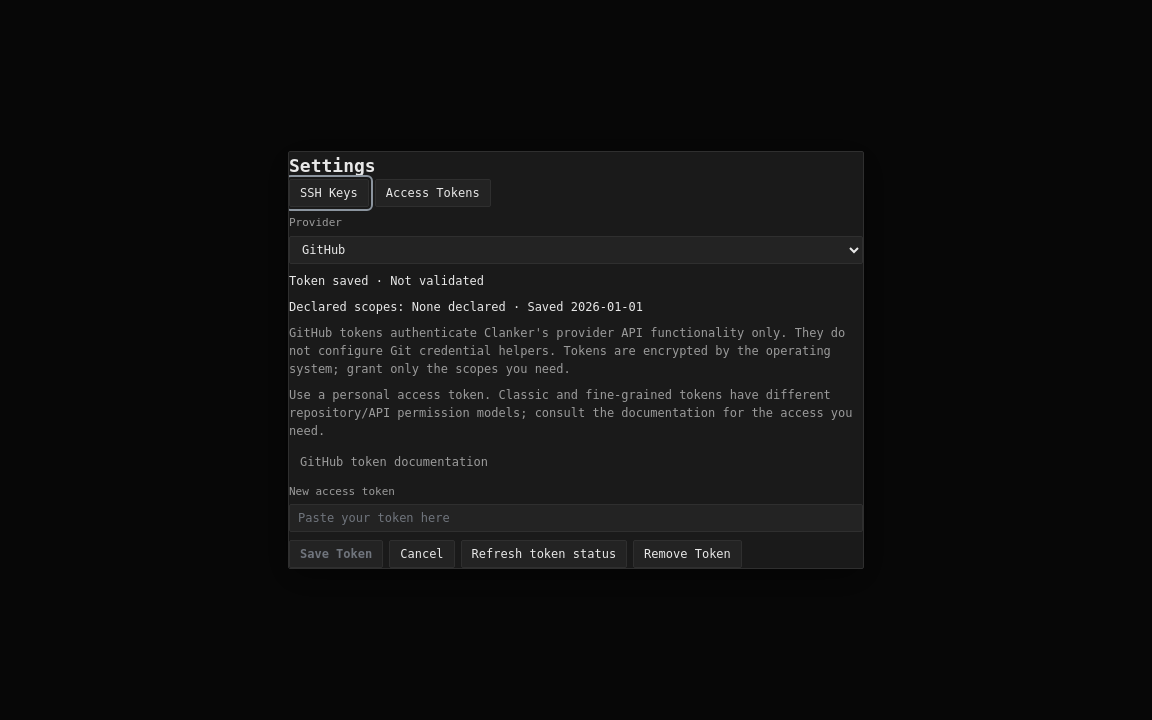
canonical Authentication content › retains failed token input and displays operation failures
This screenshot has width=1152, height=720.
Type "temporary-secret" into the password field labelled "New access token" at (576, 518), box [289,504,863,532]
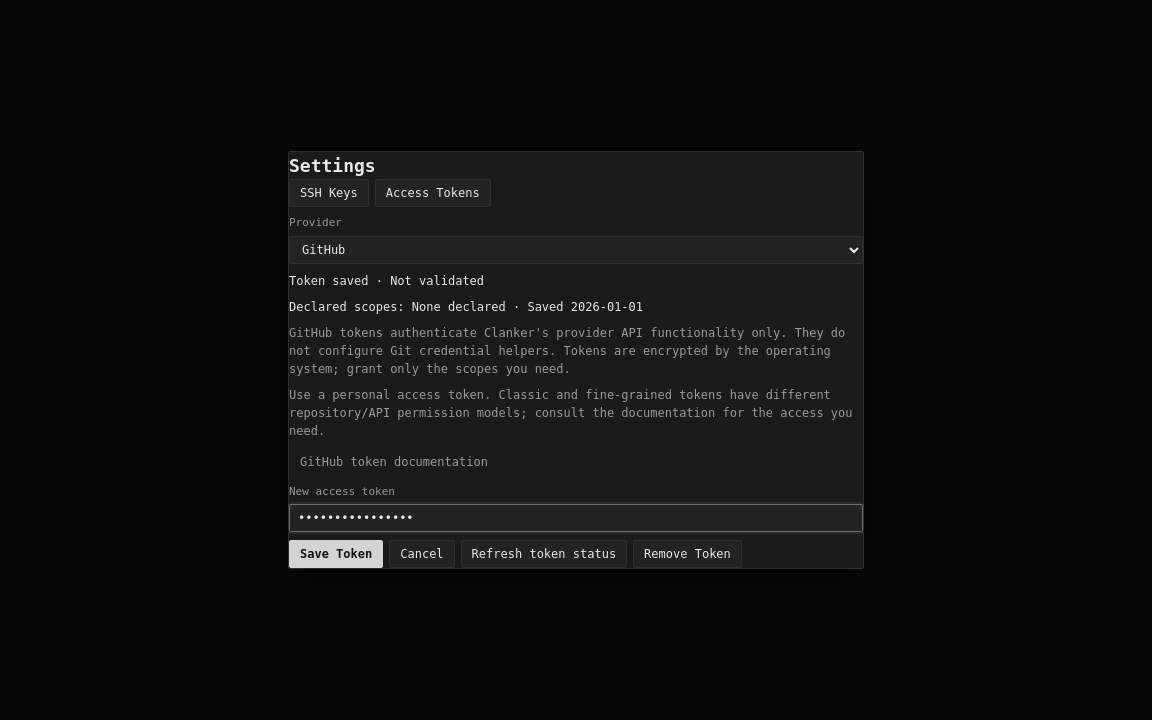
Click the button "Save Token" at (336, 554), box [289,540,383,568]
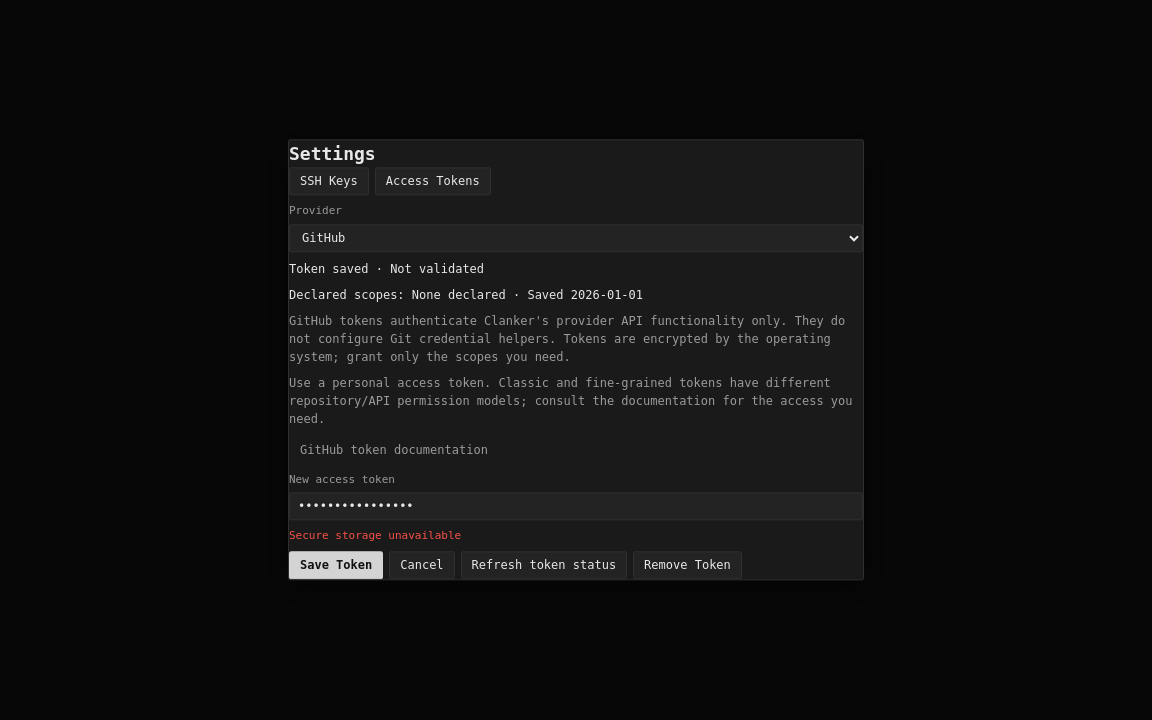
expect the message "Secure storage unavailable" is shown: met, box [289,529,461,542]
Click the button "Cancel" at (422, 566), box [389,552,455,580]
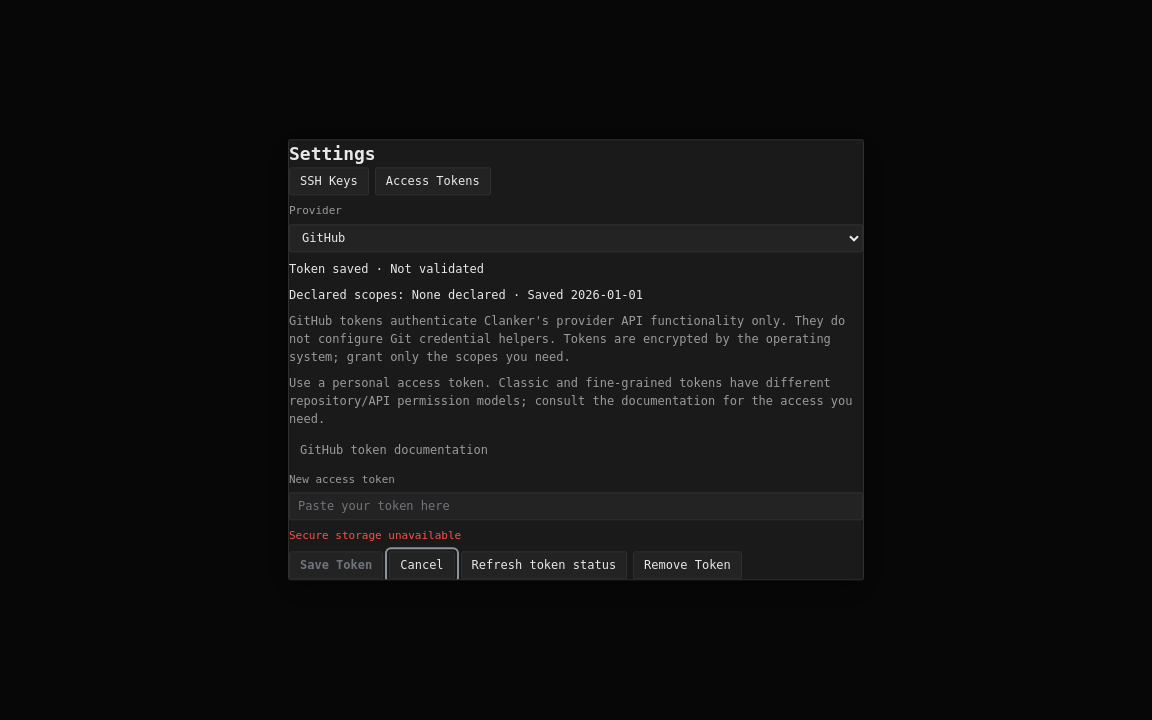
expect the password field labelled "New access token" is empty: met, box [289,492,863,520]
